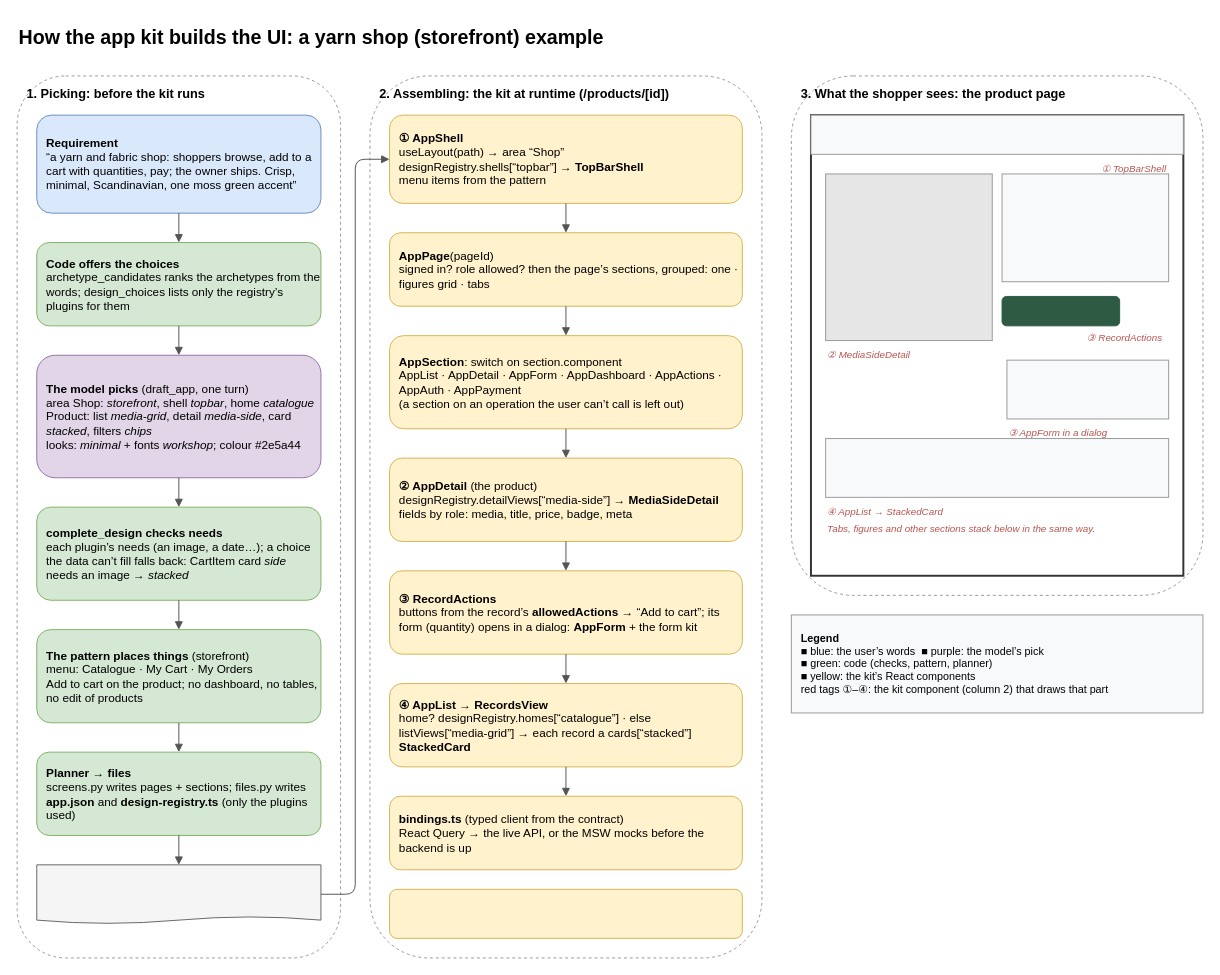
Some shapes in this 1220 by 975 pixel diagram are drawn without their labels. The shapes that lost their labels are listed below. From the top down, each one's centre as x and y in pixels, then its label:
the point at 996,134: Thread & Needle Catalogue My Cart My Orders 👤
the point at 1085,227: Merino DK – Moss €12.50 Yarn · DK · Moss In stock: 34
the point at 908,257: photo
the point at 1060,310: Add to cart
the point at 1087,389: Add to cart Quantity [ 2 ] [Add]
the point at 997,467: Your cart lines for this product Merino DK – Moss · 2 · €12.50
the point at 178,894: app.json · design-registry.ts · bindings.ts · mocks
the point at 565,913: Theme: recipe minimal , fonts workshop , accent #2e5a44 → globals.css tokens
